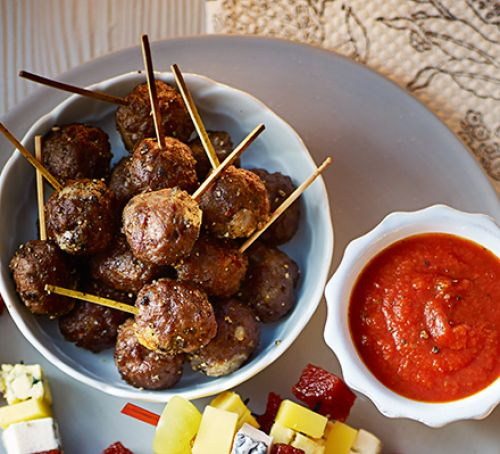meatballs: (133, 282, 216, 354), (124, 195, 205, 261), (44, 183, 117, 251), (209, 184, 267, 240)
